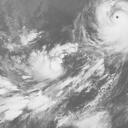cyclone: (31, 50, 70, 90), (95, 2, 127, 47)
